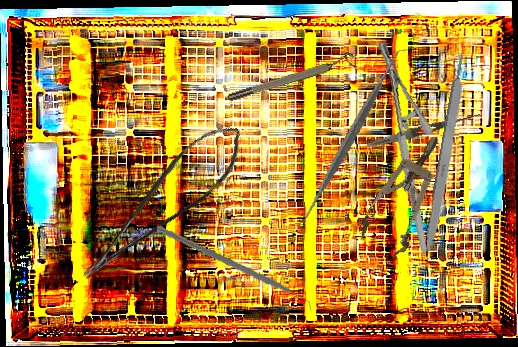Chopper: (156, 209, 313, 333)
Dressing Forceps: (365, 109, 482, 151)
Fixation Ring: (224, 50, 359, 104)
Micro Scissor: (57, 112, 262, 287)
Needle Holder: (349, 40, 456, 254)
Scalpel Handle: (421, 49, 472, 261)
Spatula Surgical: (263, 48, 437, 227)
Speculum: (353, 125, 460, 263)
